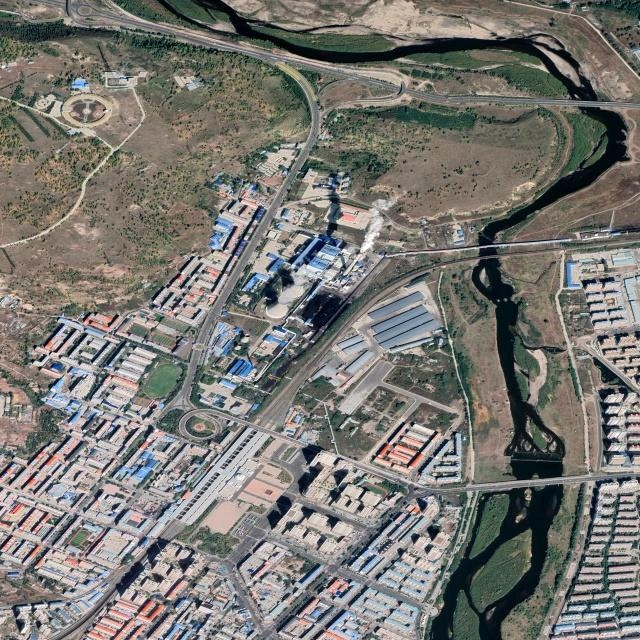coal_fired_power_plant: (206, 227, 366, 383)
